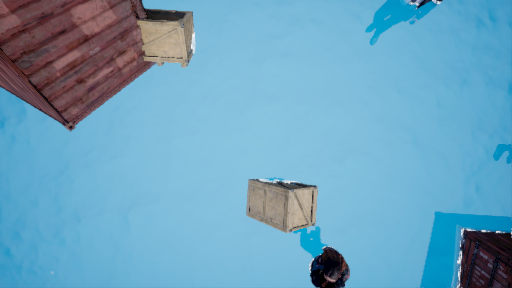person: (297, 228, 351, 288)
